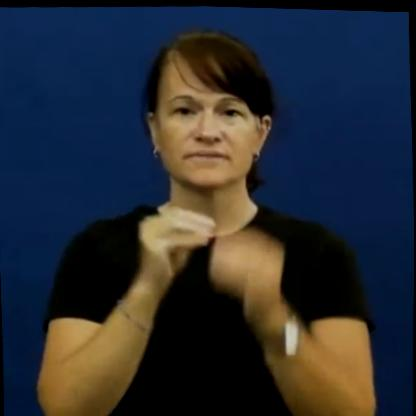Fix: (134, 183, 290, 319)
